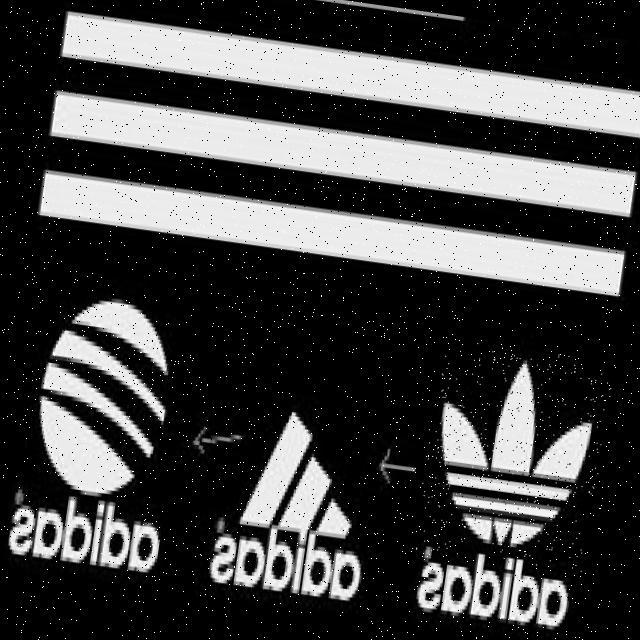Adidas: (412, 338, 615, 574)
